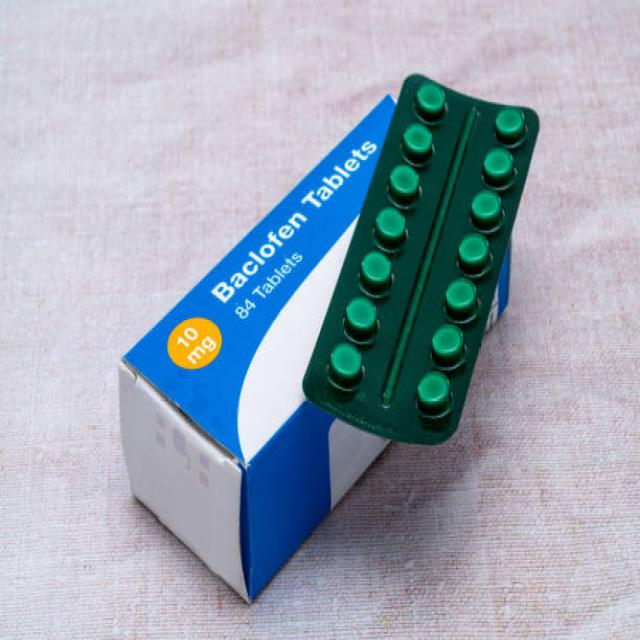Pill: (323, 339, 371, 394), (343, 286, 384, 346), (423, 319, 472, 365), (412, 365, 456, 416), (359, 241, 394, 298), (403, 111, 437, 168), (375, 200, 408, 258), (440, 274, 482, 319), (485, 101, 528, 143), (477, 142, 518, 186), (451, 231, 494, 272), (466, 187, 506, 231), (414, 74, 449, 123), (390, 157, 420, 207)
